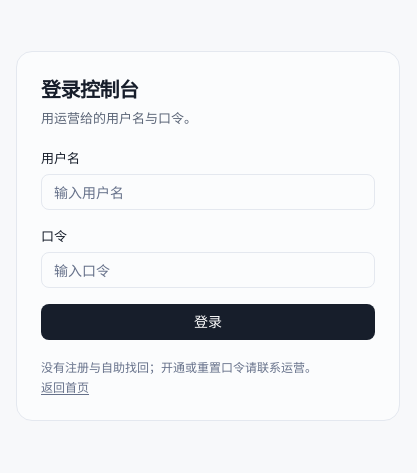
Test: 登录页 › 401 时说口令不对，而不是笼统的出错
Type "alice" into the field labelled "用户名" at (208,192), box left=41, top=174, right=375, bottom=210
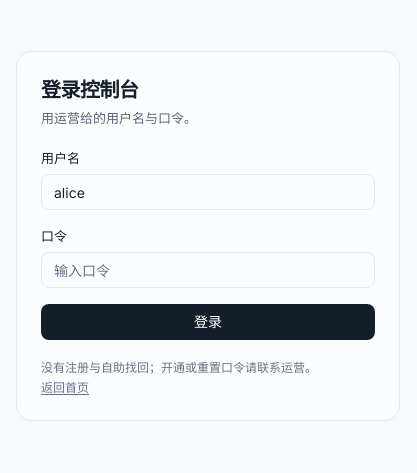
Type "wrong" into the password field labelled "口令" at (208,270), box left=41, top=252, right=375, bottom=288
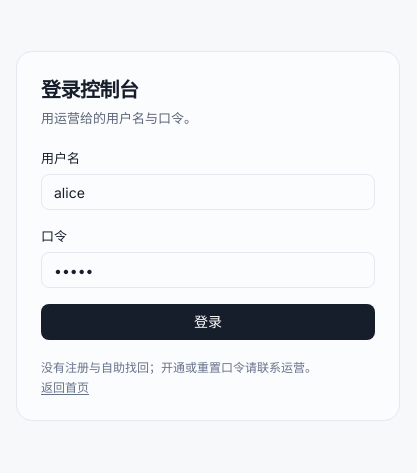
Click the button "登录" at (208,322), box left=41, top=304, right=375, bottom=340
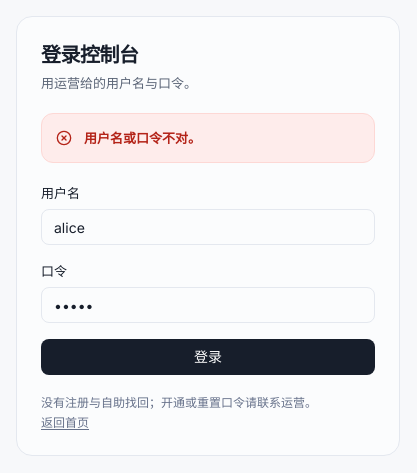
Check: the button "登录" is enabled, box left=41, top=339, right=375, bottom=375
Check: the text "用户名或口令不对。" is shown, box left=84, top=130, right=201, bottom=146
